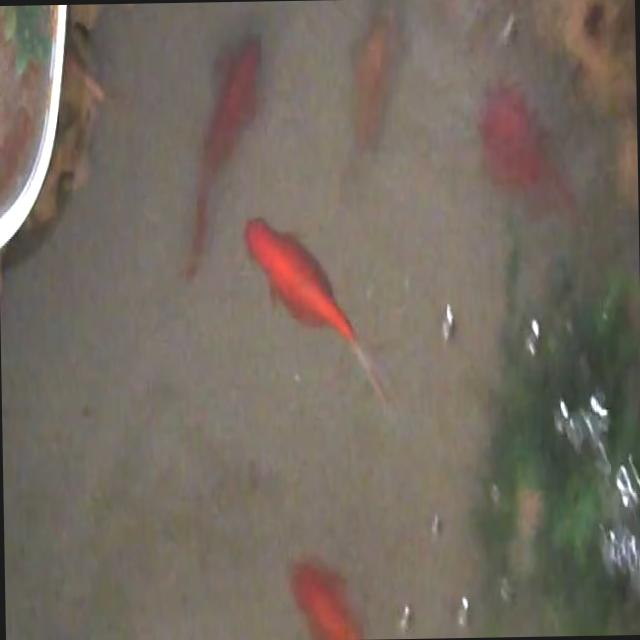fish: (243, 214, 396, 414), (178, 25, 267, 272), (475, 74, 575, 215), (288, 545, 391, 640), (347, 0, 403, 159)
